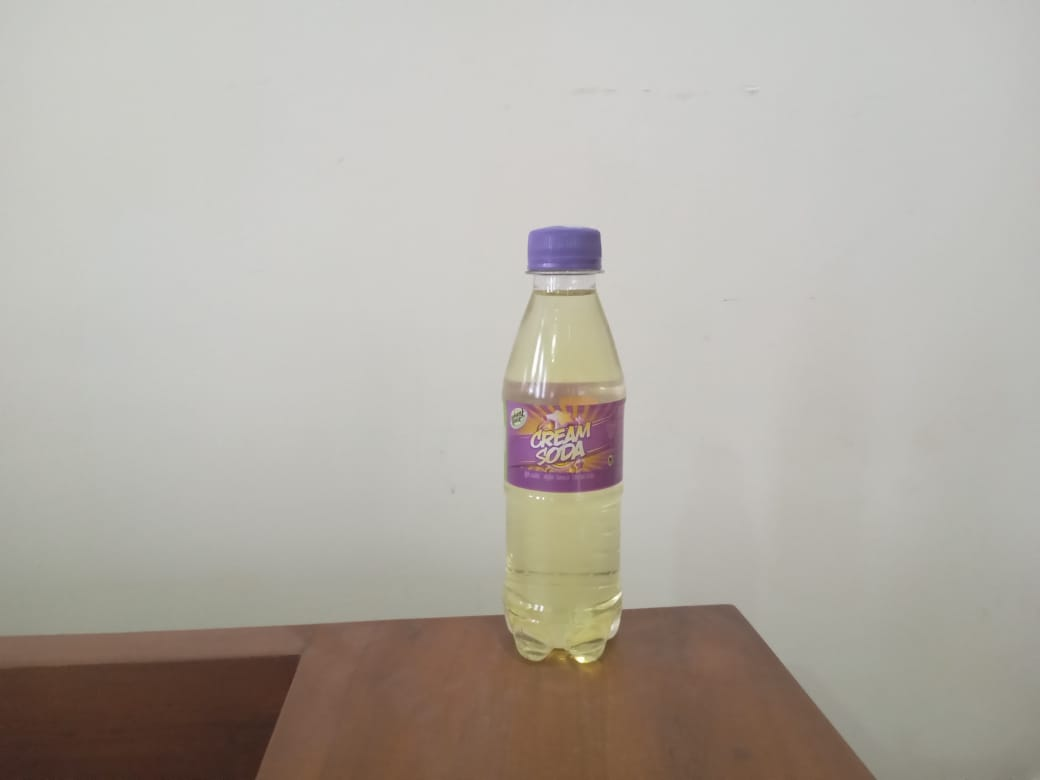Xs: (493, 219, 636, 676)
